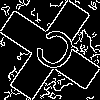C: (25, 25, 81, 83)
